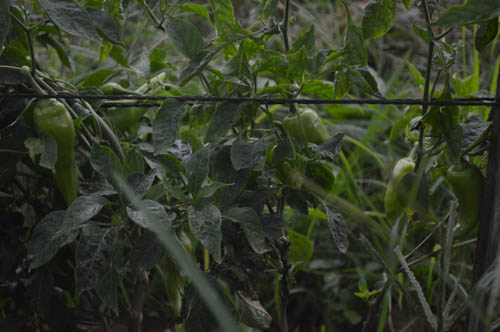ChiliPepper: (33, 106, 78, 204), (110, 74, 165, 127), (445, 168, 484, 240), (385, 158, 417, 220), (289, 112, 329, 145)
